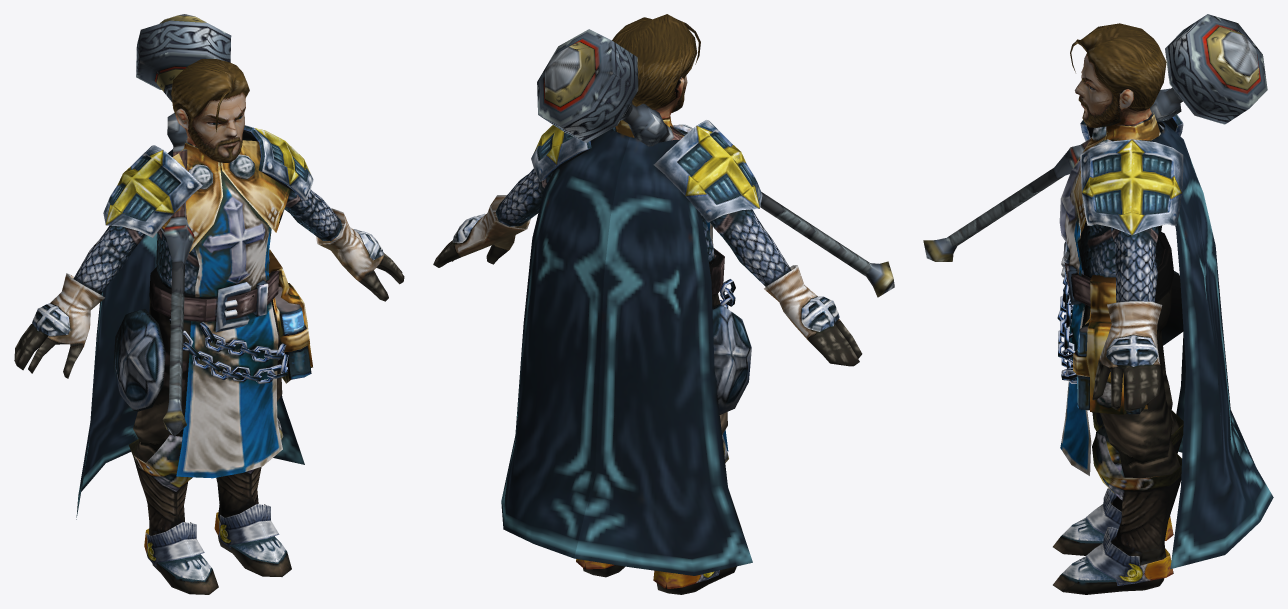
File: Cleric@CLE_A_Button_Stop_Two.FBX
3 views of the same model, side by side, from view 1: azimuth 30°, elevation 25°; view 2: azimuth 150°, elevation 25°; view 3: azimuth 270°, elevation 25° (orthographic). The views are drawn at different scales.
Visible parts, largest first — view 1: Cleric, 3d_char_wea_cle_tmace_morgenstem; view 2: Cleric, 3d_char_wea_cle_tmace_morgenstem; view 3: Cleric, 3d_char_wea_cle_tmace_morgenstem.
Part boxes in pixels (x1,y1,x2,y2): Cleric: (14, 59, 404, 594); 3d_char_wea_cle_tmace_morgenstem: (136, 14, 231, 436); Cleric: (433, 14, 862, 594); 3d_char_wea_cle_tmace_morgenstem: (537, 29, 894, 297); Cleric: (1053, 23, 1273, 594); 3d_char_wea_cle_tmace_morgenstem: (923, 14, 1267, 261).
Size of the model in its own units: 132 by 168 by 96.82.
